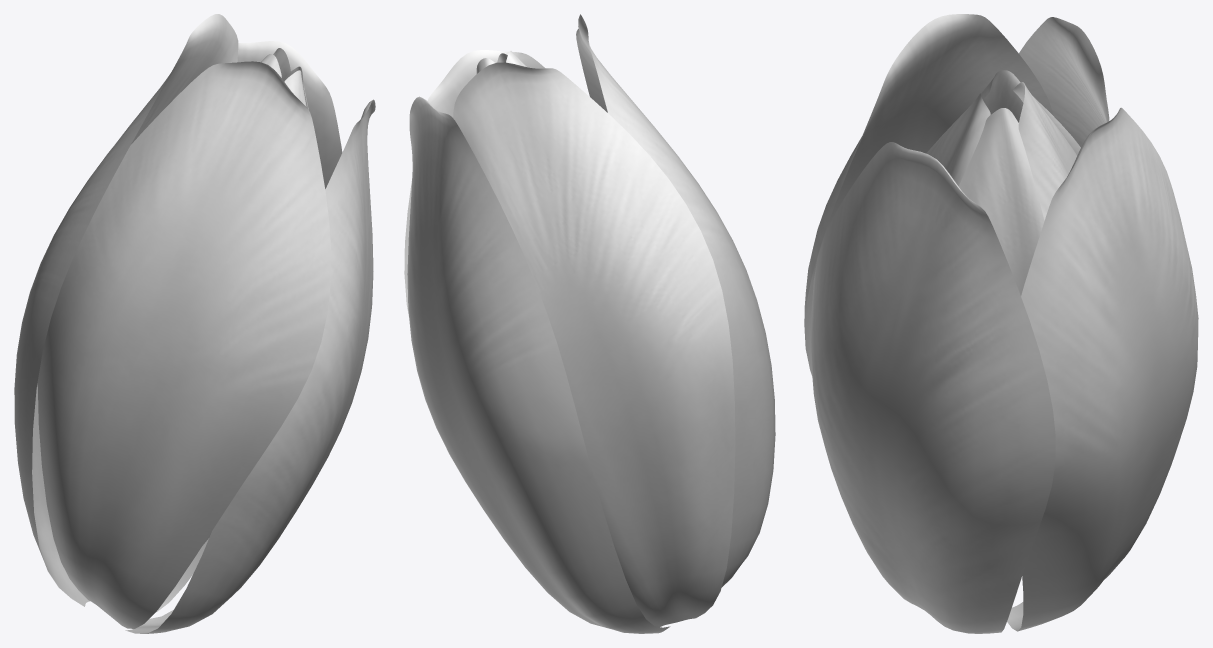
Rendered from tulip.glb.
3 views of the same model, side by side, from view 1: azimuth 30°, elevation 25°; view 2: azimuth 150°, elevation 25°; view 3: azimuth 270°, elevation 25° (orthographic). The views are drawn at different scales.
Visible parts, largest first — view 1: tulip; view 2: tulip; view 3: tulip.
Part boxes in pixels (x1,y1,x2,y2): tulip: (14, 14, 375, 633); tulip: (404, 14, 775, 633); tulip: (804, 14, 1198, 633).
Bounding box in the file's own units: 0.0527 × 0.0861 × 0.0473.
1 material, 1 textured.
